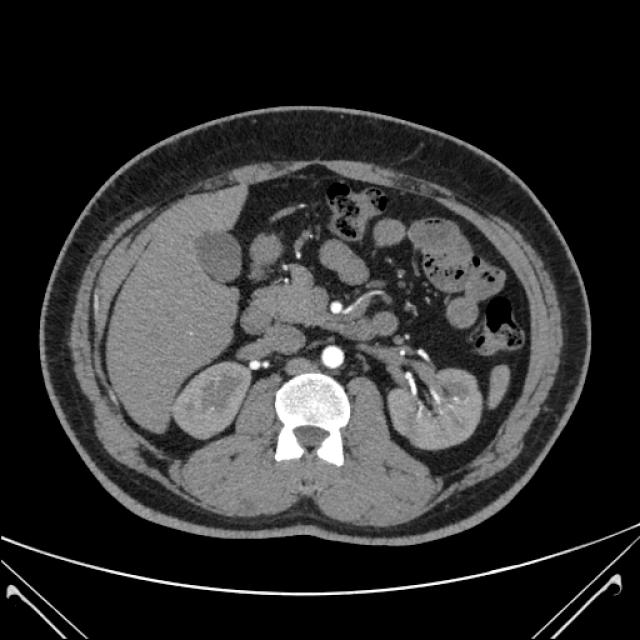Kidney: (58, 123, 576, 555)
